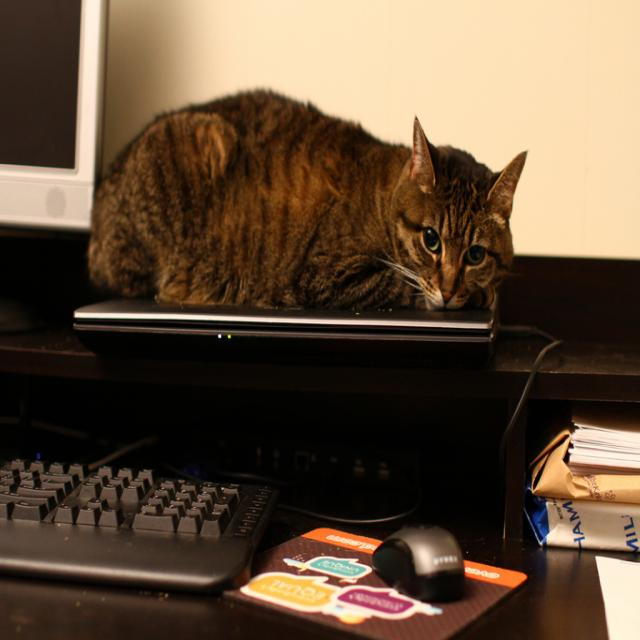desk: (0, 177, 640, 596)
keyboard: (0, 455, 281, 594)
mouse: (372, 523, 466, 601)
tv: (0, 3, 109, 236)
